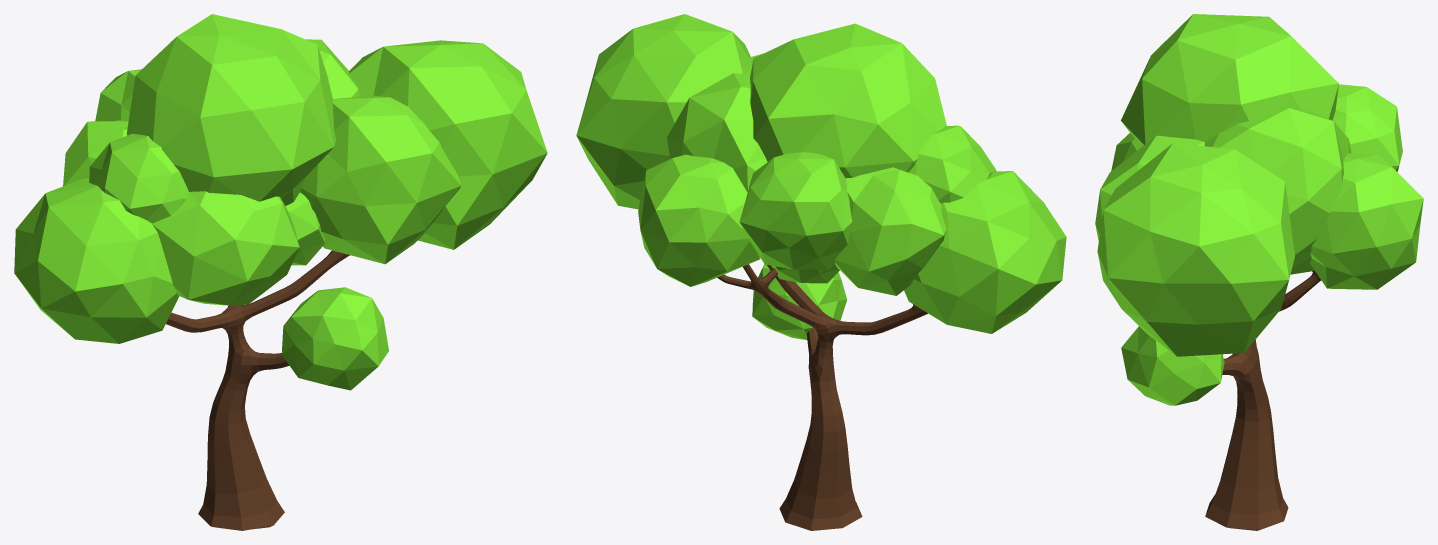
Rendered from Tree.fbx.
3 renders of one model, left to right at view 1: azimuth 30°, elevation 25°; view 2: azimuth 150°, elevation 25°; view 3: azimuth 270°, elevation 25°, orthographic. The views are drawn at different scales.
Parts seen in each view (by area): view 1: Icosphere.001; view 2: Icosphere.001, Icosphere.002; view 3: Icosphere.001, Icosphere.002.
Boxes of the visible parts, left/top/right/bottom form: Icosphere.001: left=14, top=14, right=547, bottom=530; Icosphere.001: left=576, top=14, right=1066, bottom=530; Icosphere.002: left=779, top=458, right=862, bottom=530; Icosphere.001: left=1095, top=14, right=1423, bottom=530; Icosphere.002: left=1211, top=453, right=1288, bottom=530.
Size of the model in its own units: 979 by 956 by 593.
